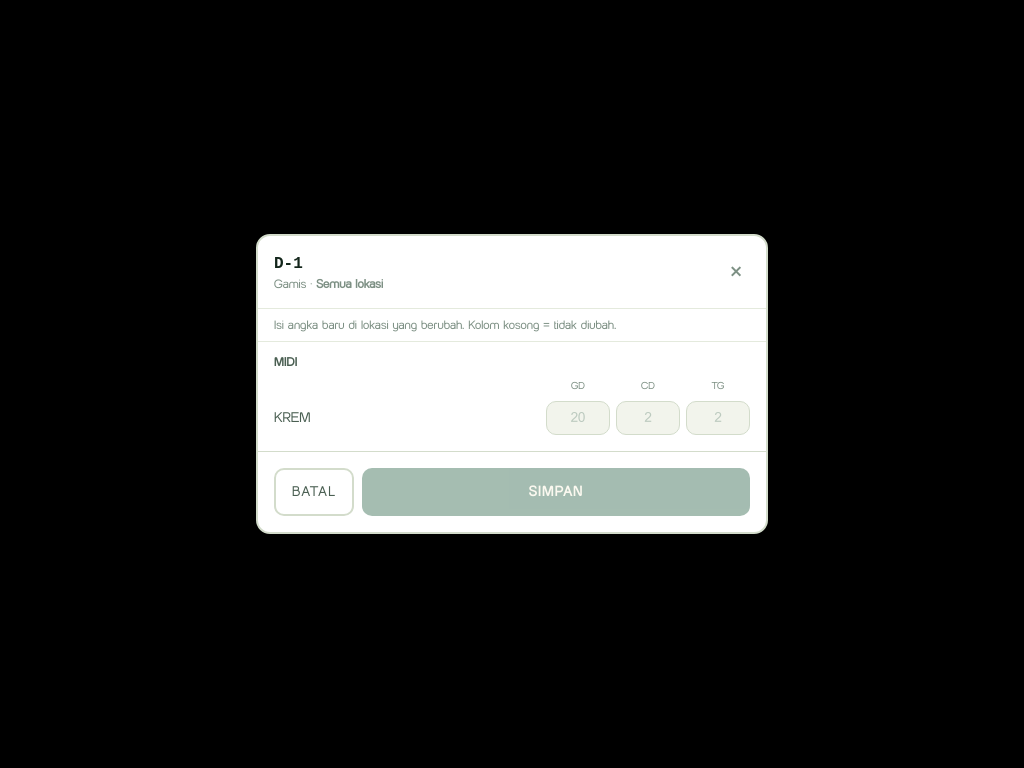
it: AllLocCountSheet blokir › menonaktifkan Simpan bila stok naik dan melebihi produksi
Type "5" into the number field named "KREM, Midi, Cideng" at (648, 418), box [616,401,680,435]
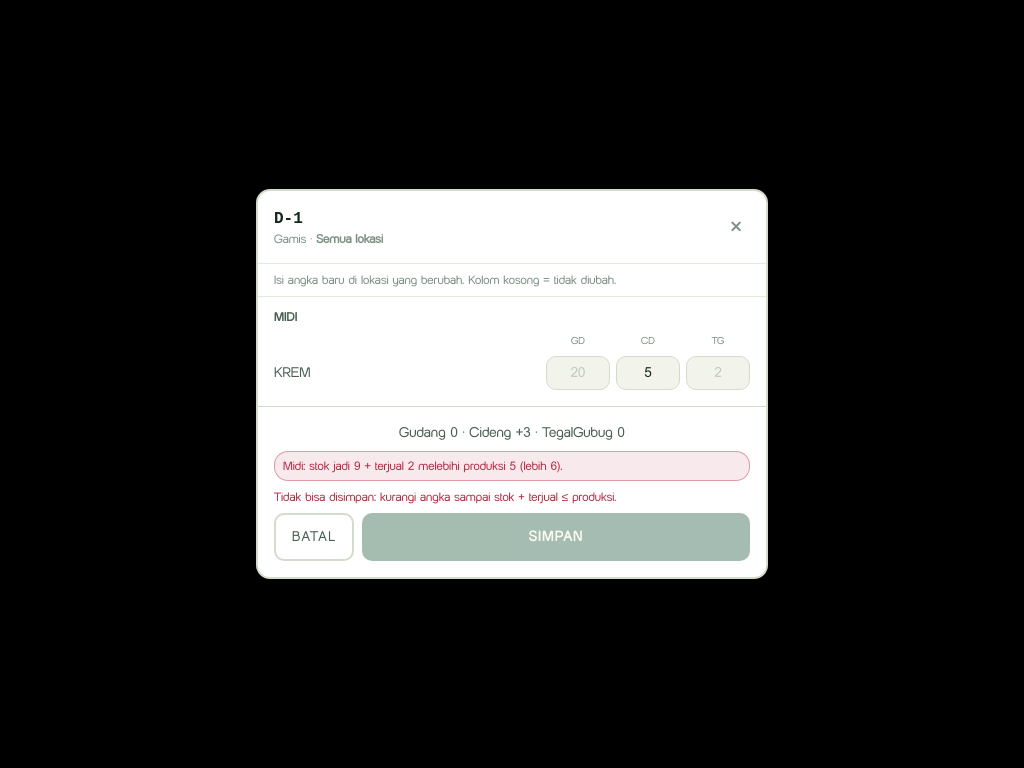
expect the button "Simpan" is disabled: met, box [362,513,750,561]
expect the text with test id "all-blocked" is shown: met, box [274,489,616,504]
